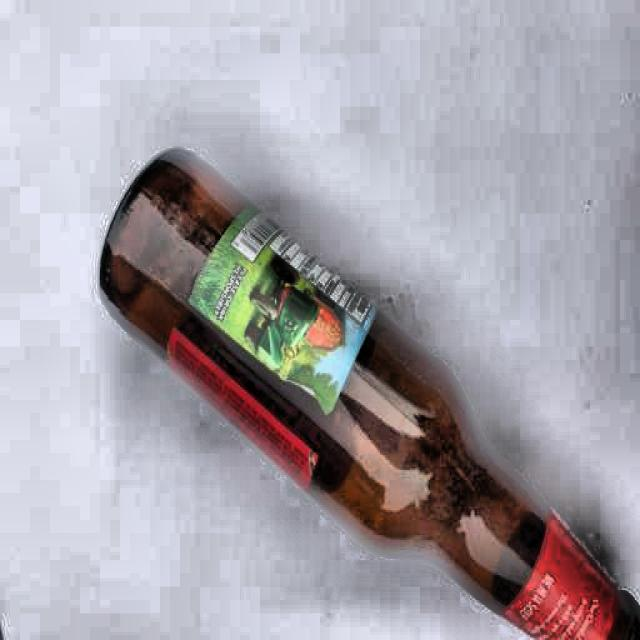glass: (92, 137, 640, 640)
